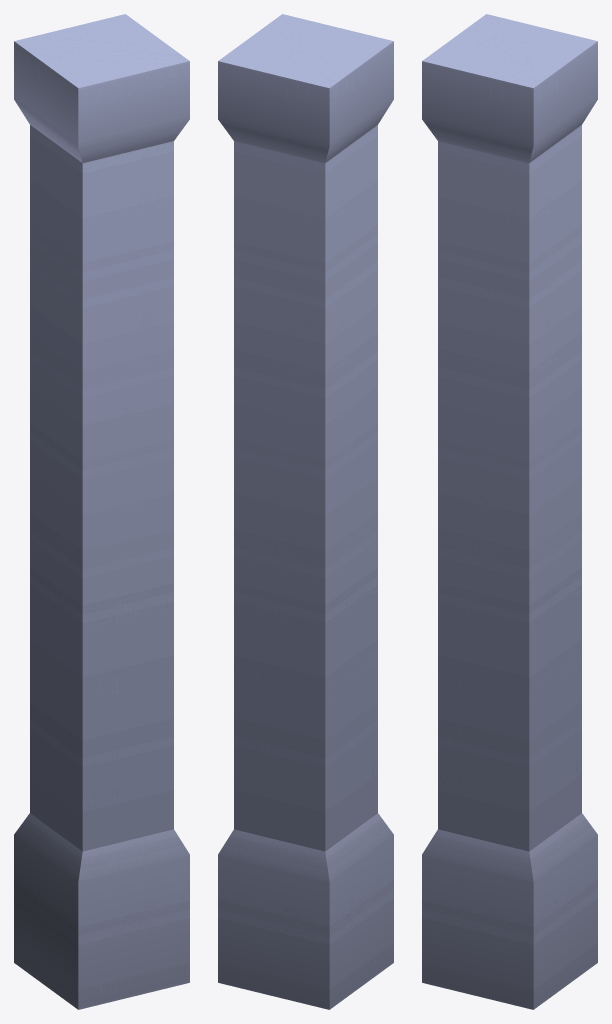
The model's file is border-pillar.glb.
3 views of the same model, side by side, from view 1: azimuth 30°, elevation 25°; view 2: azimuth 150°, elevation 25°; view 3: azimuth 330°, elevation 25° (orthographic).
Visible parts, largest first — view 1: border-pillar; view 2: border-pillar; view 3: border-pillar.
Boxes of the visible parts, box(x1,y1,x2,y2) form: border-pillar: box(14, 14, 189, 1009); border-pillar: box(218, 14, 393, 1009); border-pillar: box(422, 14, 597, 1009).
Bounding box in the file's own units: 0.3 × 2.37 × 0.3.
Materials: 1 (1 with a texture image).
